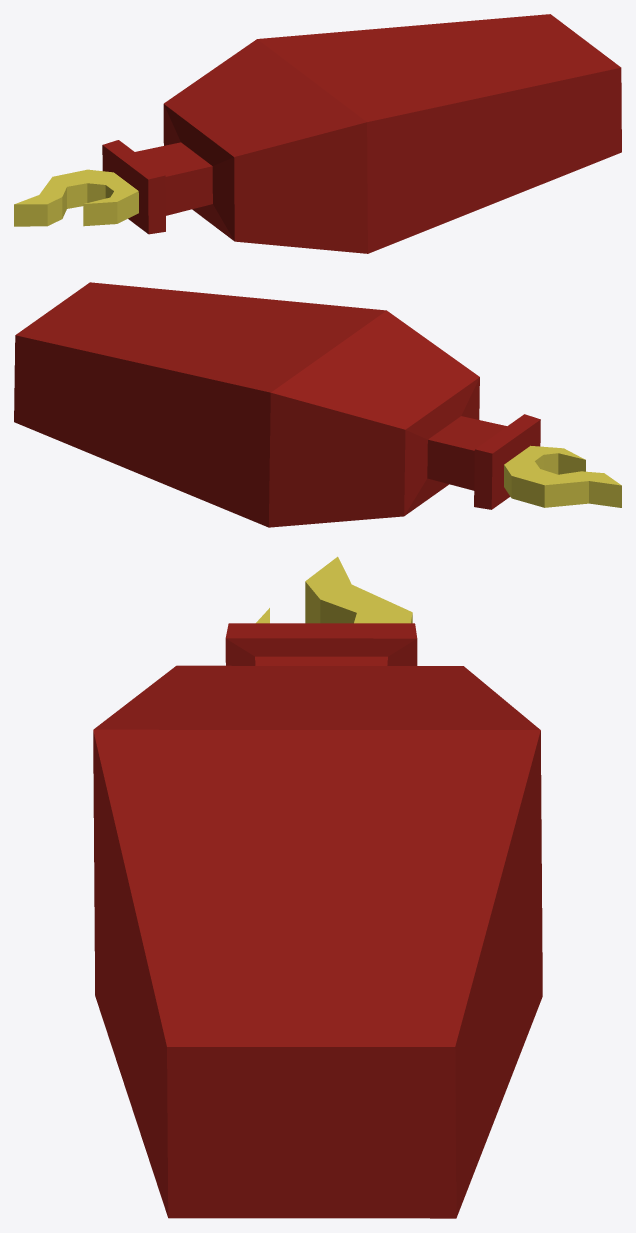
The model's file is InfernoPotion.fbx.
3 views of the same model, one above another, from view 1: azimuth 30°, elevation 25°; view 2: azimuth 150°, elevation 25°; view 3: azimuth 270°, elevation 25° (orthographic). The views are drawn at different scales.
Visible parts, largest first — view 1: inferno; view 2: inferno; view 3: inferno.
Boxes of the visible parts, x1=… form: inferno: x1=14, y1=14, x2=621, y2=253; inferno: x1=14, y1=282, x2=621, y2=527; inferno: x1=93, y1=556, x2=542, y2=1218.
Size of the model in its own units: 335 by 75.3 by 115.
